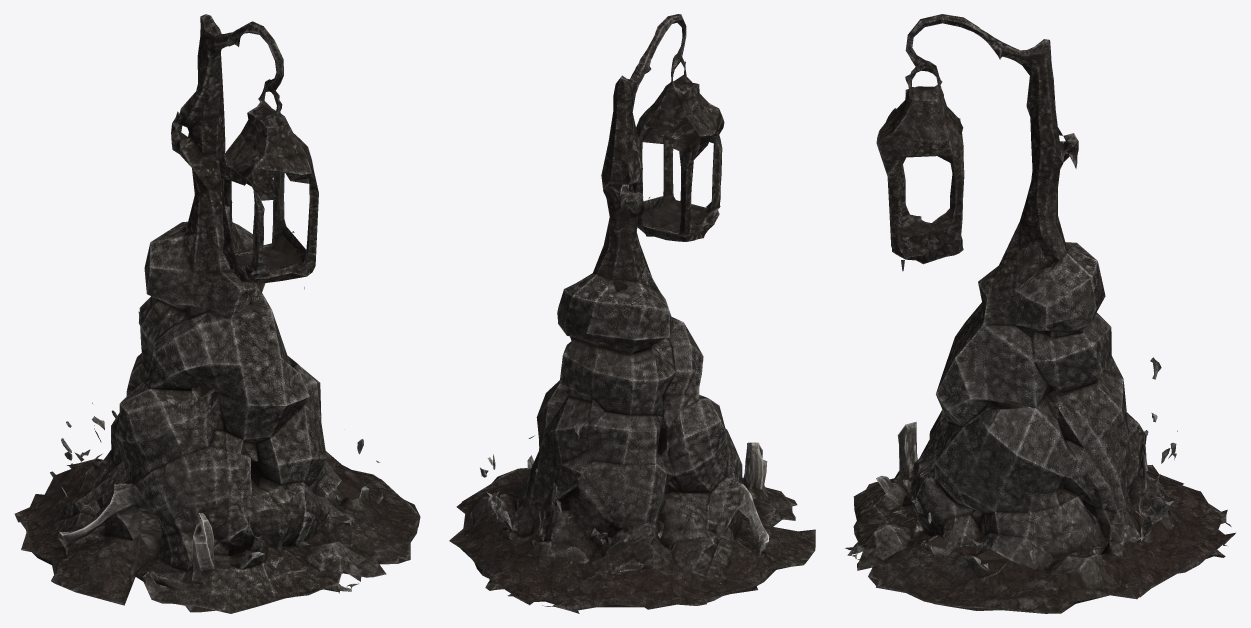
File: b3-waymarker.glb
The picture shows the model from 3 angles, left to right: view 1: azimuth 30°, elevation 25°; view 2: azimuth 150°, elevation 25°; view 3: azimuth 270°, elevation 25°; orthographic projection. The views are drawn at different scales.
Size of the model in its own units: 1.29 by 1.88 by 1.28.
Materials: 1 (1 with a texture image).
